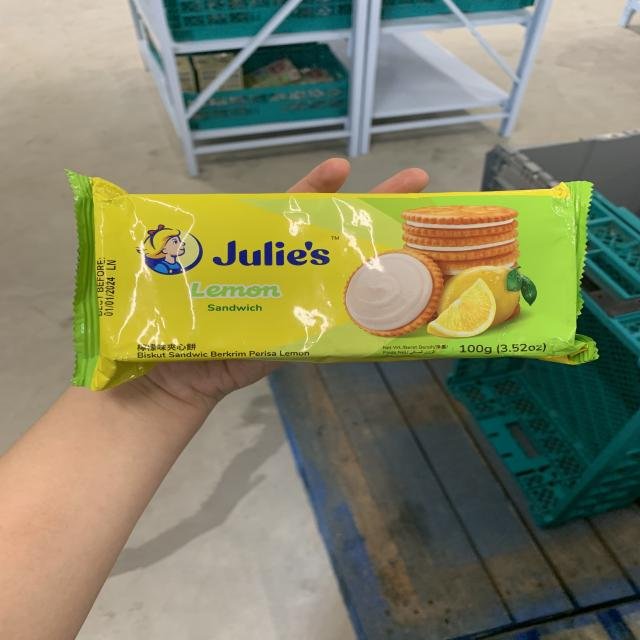object_name: (87, 197, 578, 354)
